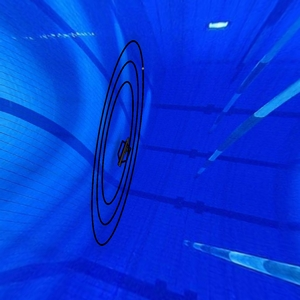circle: (87, 36, 147, 250)
submarine: (115, 134, 134, 169)
